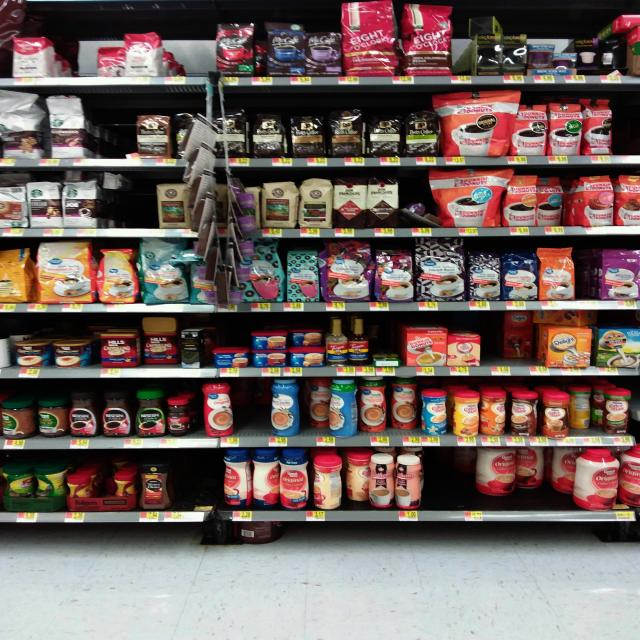empty_space: (430, 456, 475, 497), (179, 459, 213, 500), (95, 114, 129, 152), (62, 38, 94, 78), (120, 190, 154, 226), (178, 37, 210, 75), (238, 384, 268, 424), (615, 103, 640, 149), (480, 322, 498, 359), (452, 42, 472, 70)
